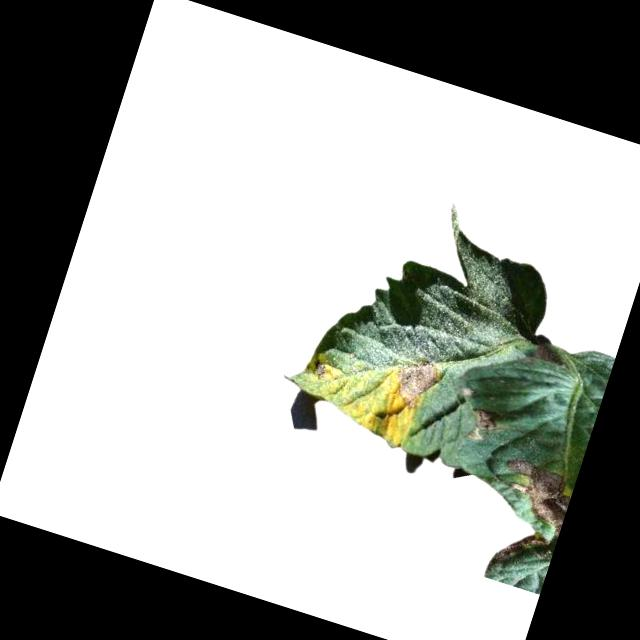Early_blight: (476, 453, 577, 580), (381, 350, 445, 422), (464, 401, 505, 448), (306, 357, 332, 385)
